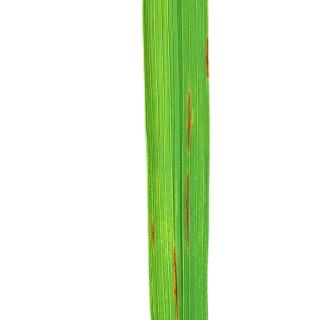Bercak-Cokelat-Sempit: (180, 91, 195, 160), (198, 34, 215, 86), (182, 170, 192, 252), (170, 244, 180, 320), (146, 222, 164, 253)
